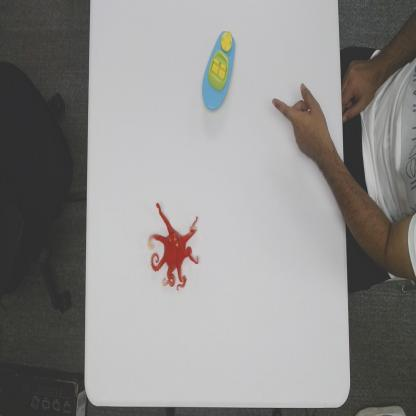Boat: (203, 30, 234, 112)
Hand: (271, 84, 333, 164)
Octopus: (148, 203, 201, 289)
